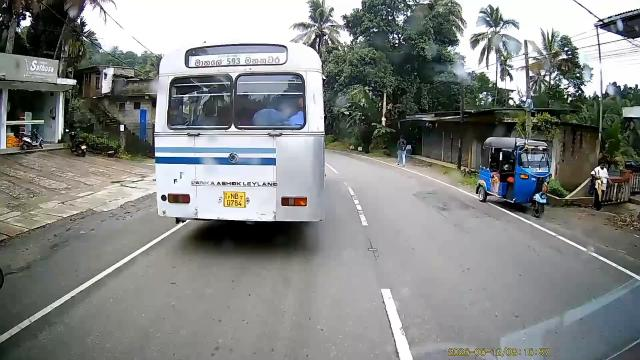number plate: (216, 187, 251, 211)
